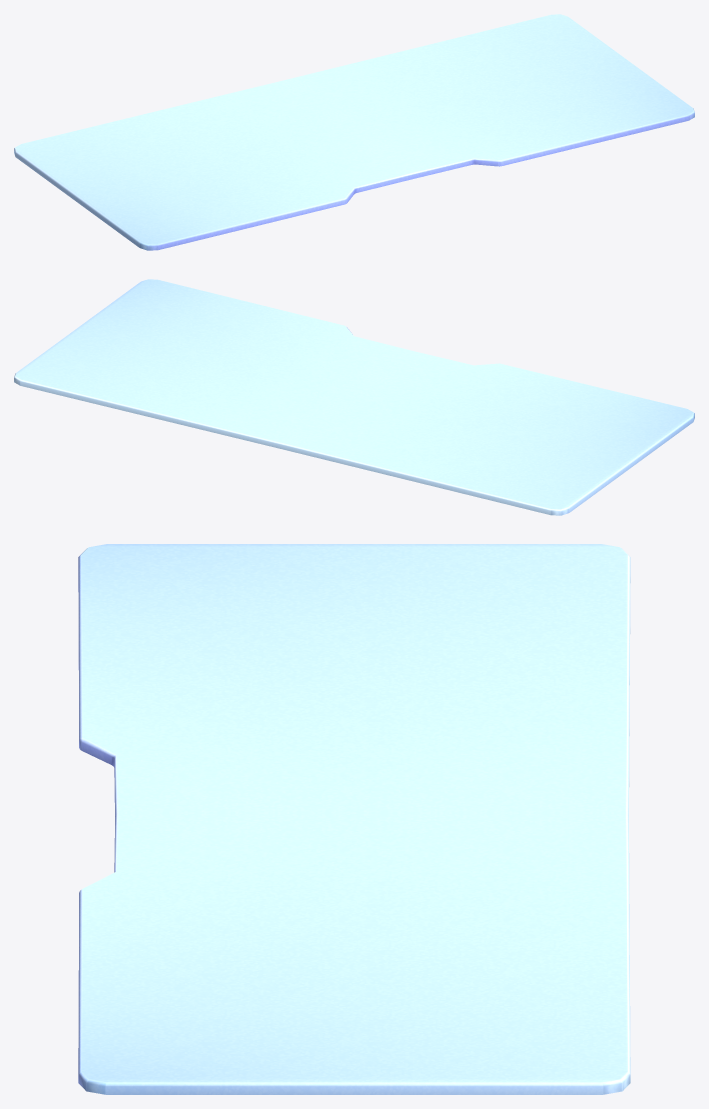
File: obj_floor.gltf
3 renders of one model, top to bottom at view 1: azimuth 30°, elevation 25°; view 2: azimuth 150°, elevation 25°; view 3: azimuth 270°, elevation 25°, orthographic. The views are drawn at different scales.
Visible parts, largest first — view 1: obj_floor; view 2: obj_floor; view 3: obj_floor.
Boxes of the visible parts, x1,y1,x2,y2 form: obj_floor: [14, 14, 694, 250]; obj_floor: [14, 279, 694, 515]; obj_floor: [78, 544, 630, 1094].
Size of what is drawn, in the model's own units: 15.31 by 0.15 by 6.61.
1 material, 1 textured.
